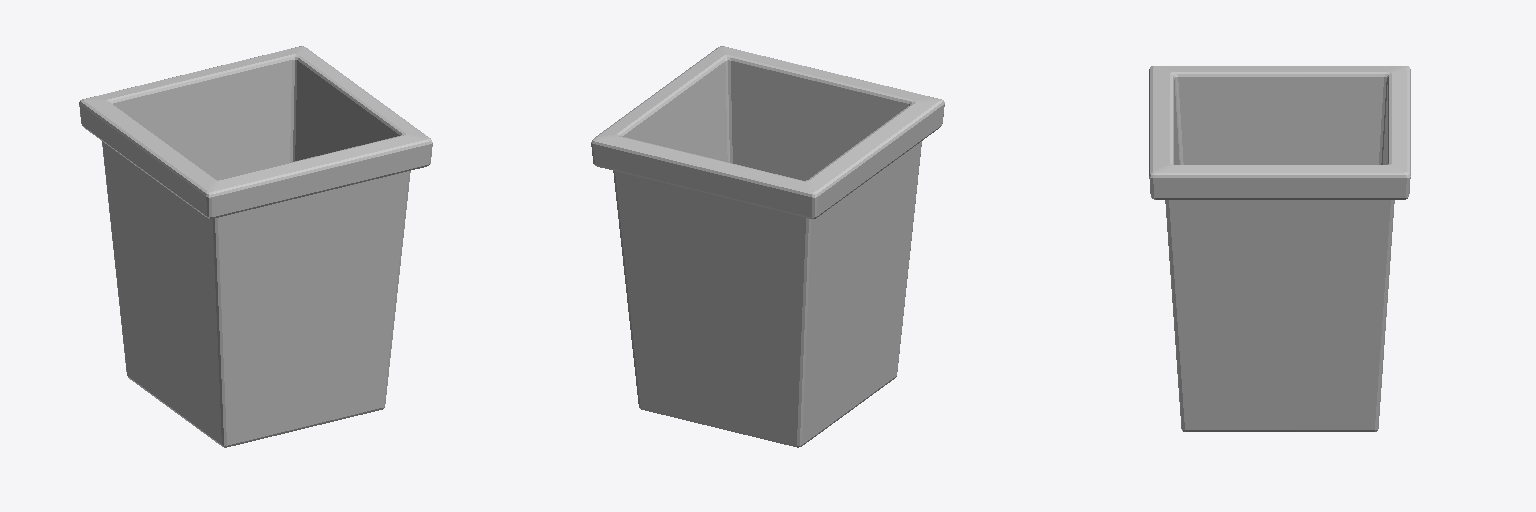
Rendered from Tong sampah.obj.
3 views of the same model, side by side, from view 1: azimuth 30°, elevation 25°; view 2: azimuth 150°, elevation 25°; view 3: azimuth 270°, elevation 25° (orthographic).
Parts seen in each view (by area): view 1: tong_sampah; view 2: tong_sampah; view 3: tong_sampah.
Boxes of the visible parts, x1=… form: tong_sampah: x1=79, y1=46, x2=432, y2=447; tong_sampah: x1=591, y1=46, x2=944, y2=447; tong_sampah: x1=1149, y1=66, x2=1410, y2=431.
Bounding box in the file's own units: 1.35 × 1.57 × 1.35.